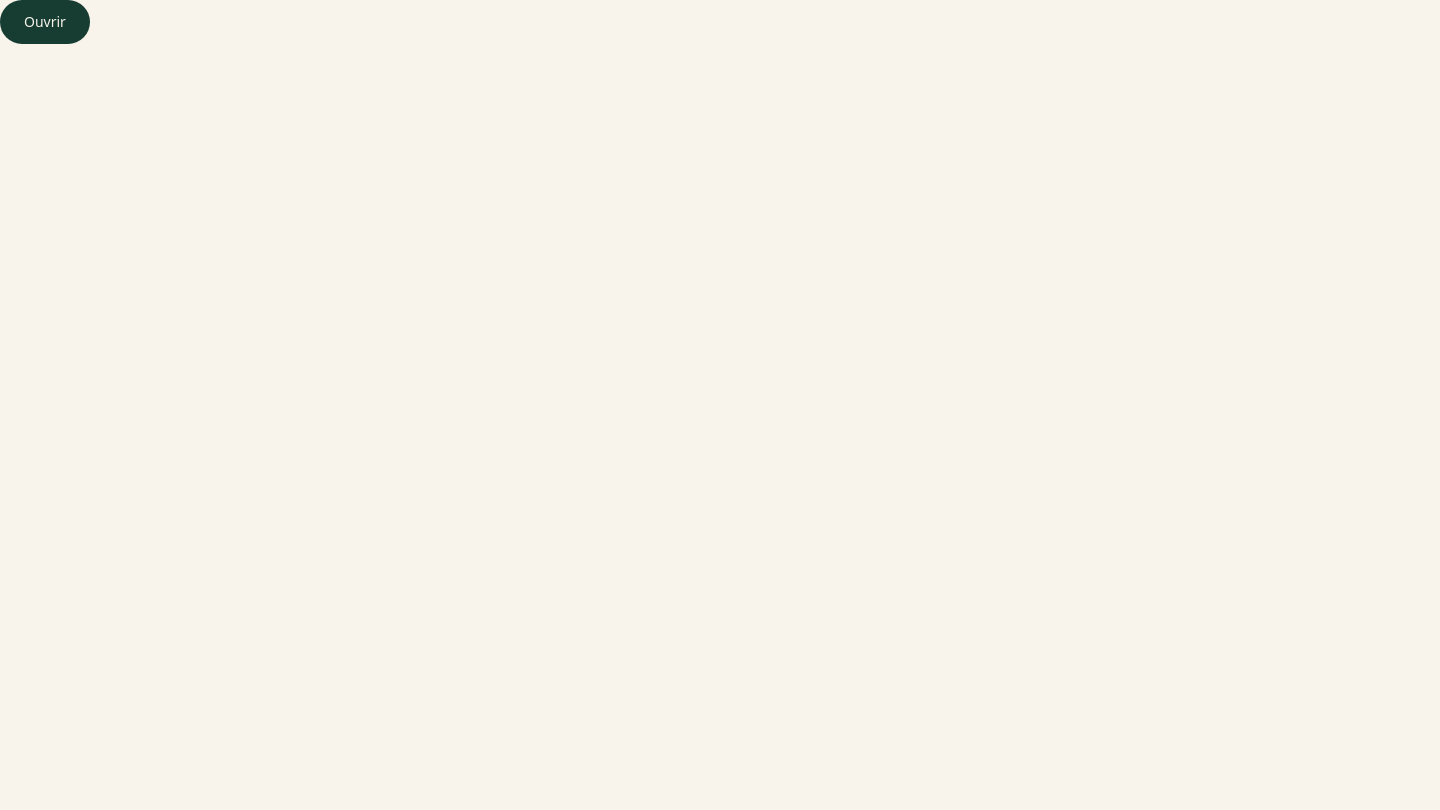
Scenario: Modal › closes with its translated close button
Click the button "Ouvrir".
click(45, 22)  # box [0,0,90,44]
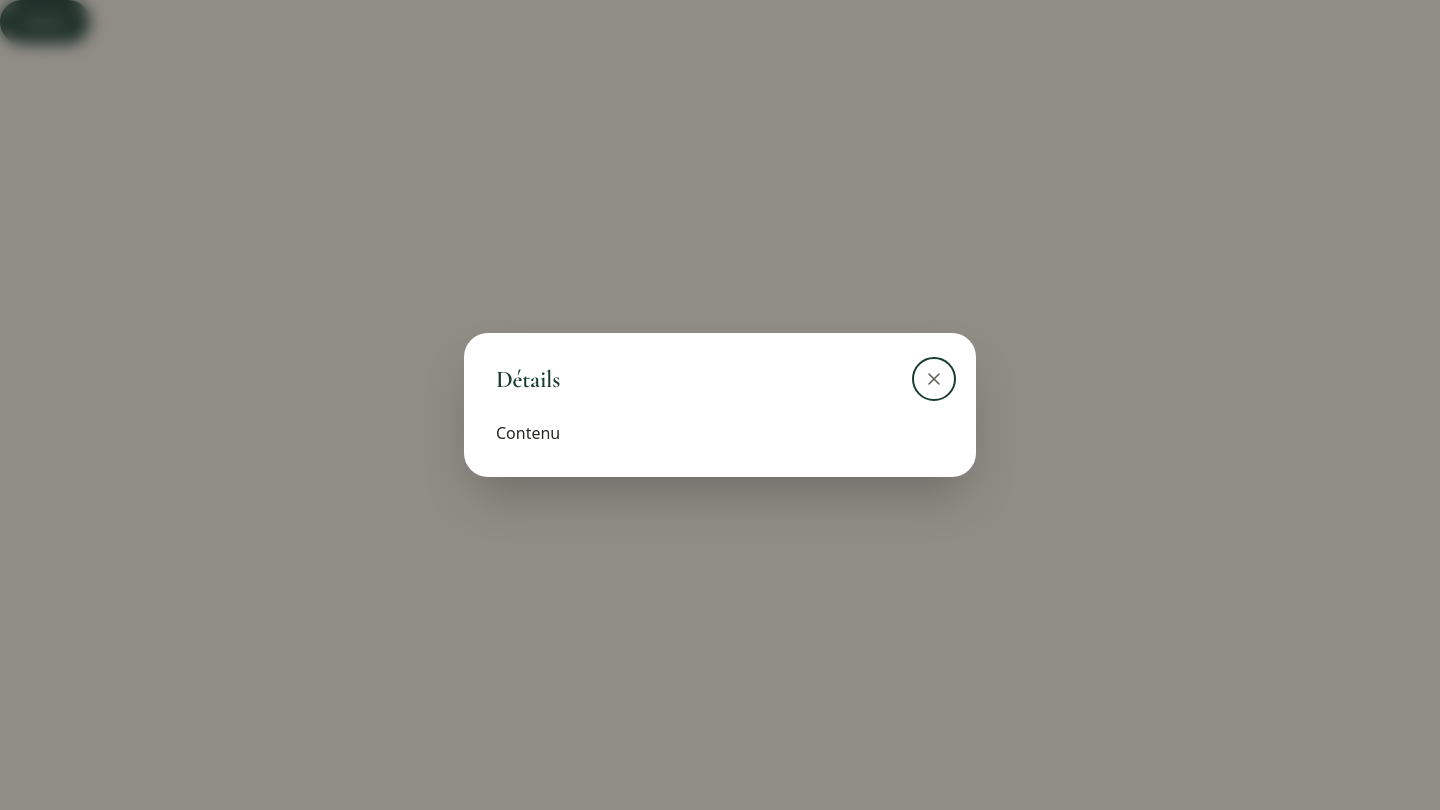
Click the button named "Fermer la fenêtre".
click(934, 379)  # box [916,361,952,397]
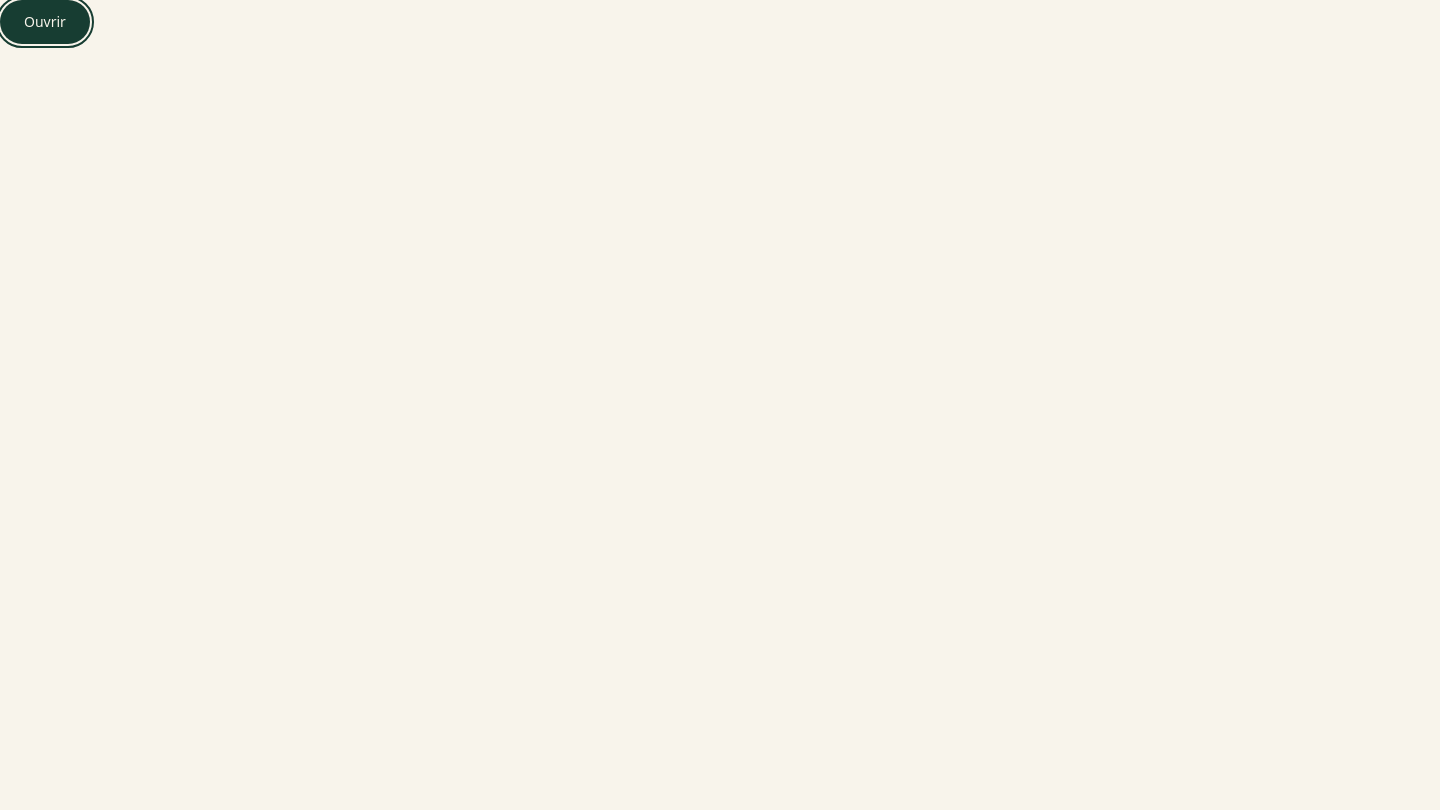
Expected: the dialog is gone
